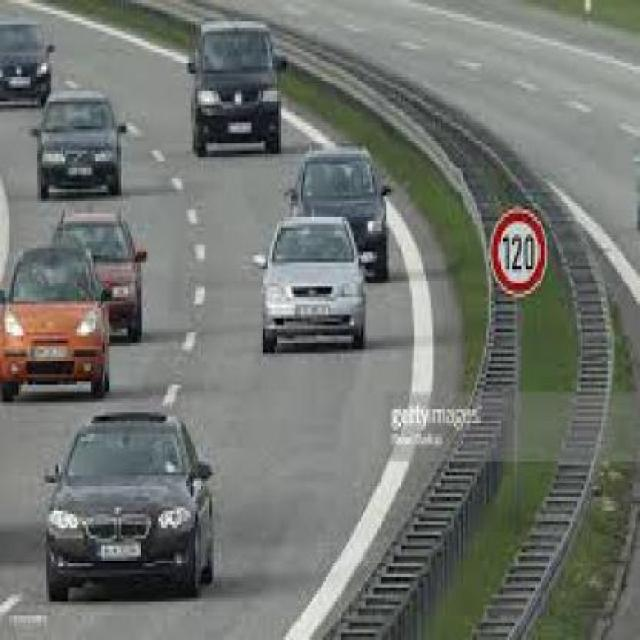forb_speed_over_120: (491, 206, 548, 297)
